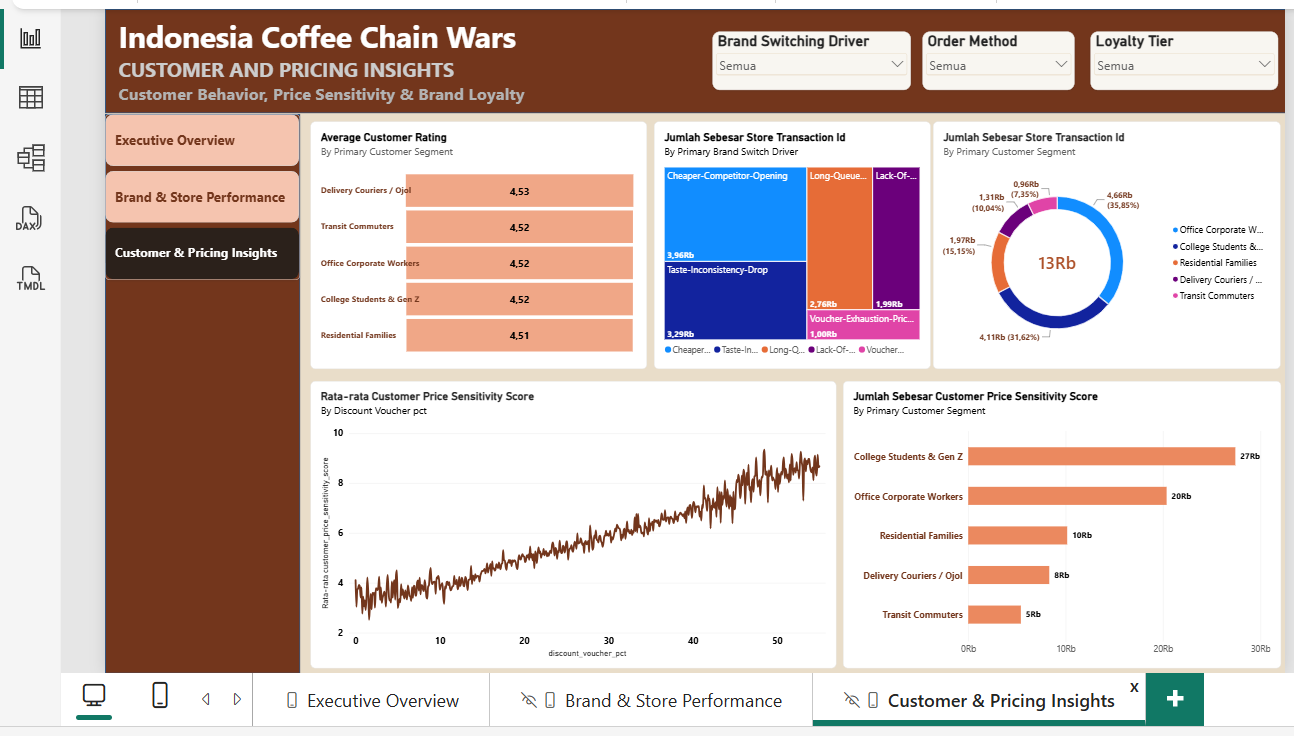

Layout of this report page (visuals, bound fields, positions):
{"tool":"powerbi","page":{"name":"Customer & Pricing Insights","canvas":[1920,1080],"ordinal":2},"visuals":[{"type":"shape","box":[0,170,317.5,910],"z":0},{"type":"shape","box":[0,0,2561.2,169.6],"z":1000},{"type":"textbox","box":[22.5,12.5,822.5,147.5],"z":2000},{"type":"slicer","fields":{"Values":["Dataset.customer_brand_loyalty_tier"]},"box":[1602.5,37.5,305,95],"z":3000},{"type":"donutChart","title":"Jumlah Sebesar Store Transaction Id","fields":{"Category":["Dataset.primary_customer_segment"],"Y":["CountNonNull(Dataset.store_transaction_id)"]},"box":[1347.5,182.5,565,402.5],"z":4000},{"type":"funnel","title":"Average Customer Rating","fields":{"Category":["Dataset.primary_customer_segment"],"Y":["_MEASURE.Average Customer Rating"]},"box":[335,182.5,547.5,402.5],"z":5000},{"type":"treemap","title":"Jumlah Sebesar Store Transaction Id","fields":{"Group":["Dataset.primary_brand_switch_driver"],"Values":["CountNonNull(Dataset.store_transaction_id)"]},"box":[892.5,182.5,450,402.5],"z":6000},{"type":"barChart","title":"Jumlah Sebesar Customer Price Sensitivity Score","fields":{"Category":["Dataset.primary_customer_segment"],"Y":["Sum(Dataset.customer_price_sensitivity_score)"]},"box":[1200,605,712.5,467.5],"z":7000},{"type":"slicer","fields":{"Values":["Dataset.order_method"]},"box":[1330,37.5,247.5,95],"z":8000},{"type":"slicer","fields":{"Values":["Dataset.primary_brand_switch_driver"]},"box":[987.5,37.5,322.5,95],"z":9000},{"type":"lineChart","title":"Rata-rata Customer Price Sensitivity Score","fields":{"Category":["Dataset.discount_voucher_pct"],"Y":["Avg(Dataset.customer_price_sensitivity_score)"]},"box":[335,605,855,467.5],"z":10000},{"type":"pageNavigator","box":[0,170,317.5,270],"z":11000}]}

Visuals, with their boxes on the page's 1920x1080 design canvas (x1, y1, x2, y2). These are canvas units, not pixel positions in the 1294x736 screenshot, which may show the page scaled, cropped or inside an application window:
shape: bbox(0, 170, 318, 1080)
shape: bbox(0, 0, 2561, 170)
textbox: bbox(22, 12, 845, 160)
slicer - Dataset.customer_brand_loyalty_tier: bbox(1602, 38, 1908, 132)
"Jumlah Sebesar Store Transaction Id" donutChart: bbox(1348, 182, 1912, 585)
"Average Customer Rating" funnel: bbox(335, 182, 882, 585)
"Jumlah Sebesar Store Transaction Id" treemap: bbox(892, 182, 1342, 585)
"Jumlah Sebesar Customer Price Sensitivity Score" barChart: bbox(1200, 605, 1912, 1072)
slicer - Dataset.order_method: bbox(1330, 38, 1578, 132)
slicer - Dataset.primary_brand_switch_driver: bbox(988, 38, 1310, 132)
"Rata-rata Customer Price Sensitivity Score" lineChart: bbox(335, 605, 1190, 1072)
pageNavigator: bbox(0, 170, 318, 440)
